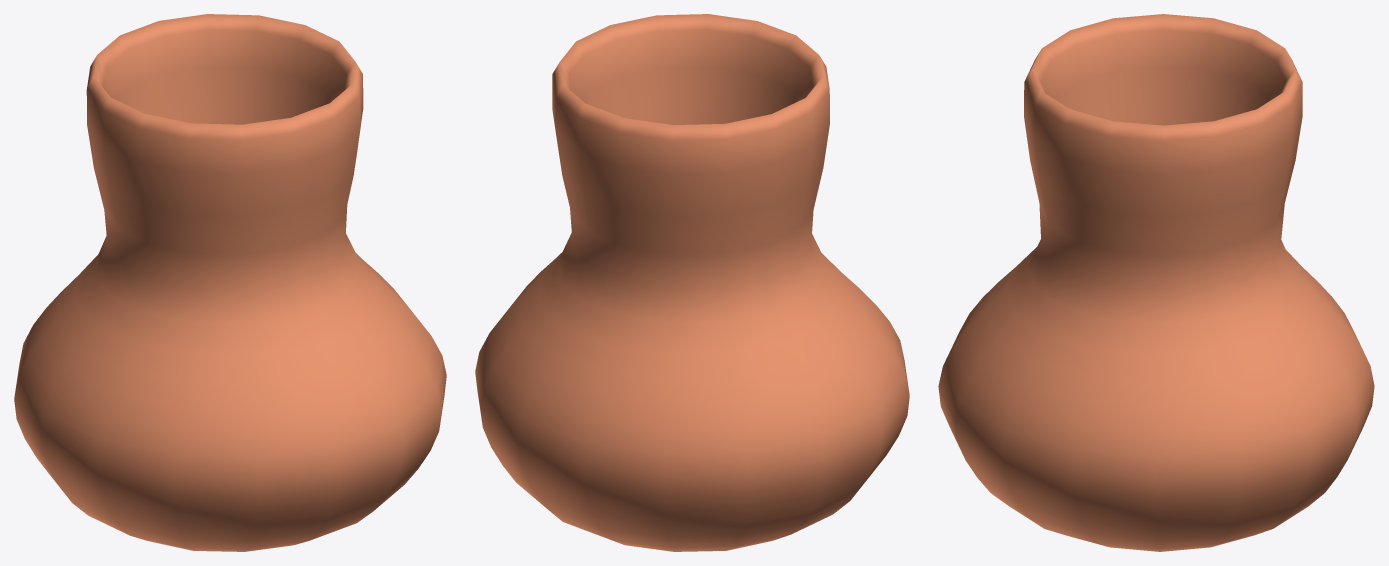
The model's file is Vase_03.fbx.
The picture shows the model from 3 angles, left to right: view 1: azimuth 30°, elevation 25°; view 2: azimuth 150°, elevation 25°; view 3: azimuth 270°, elevation 25°; orthographic projection.
Visible parts, largest first — view 1: Cylinder.002; view 2: Cylinder.002; view 3: Cylinder.002.
Boxes of the visible parts, x1,y1,x2,y2 form: Cylinder.002: (14,14,446,551); Cylinder.002: (475,14,909,551); Cylinder.002: (938,14,1374,551).
Size of the model in its own units: 61.51 by 68.65 by 61.51.
